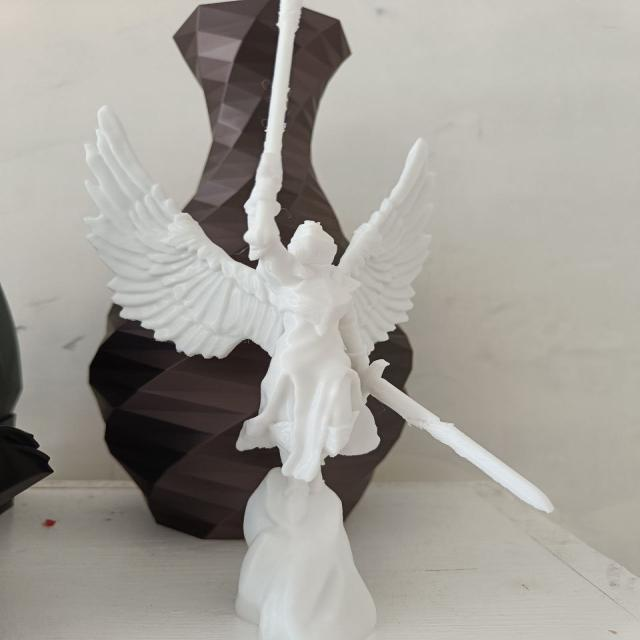Without deffect: (56, 1, 579, 640)
